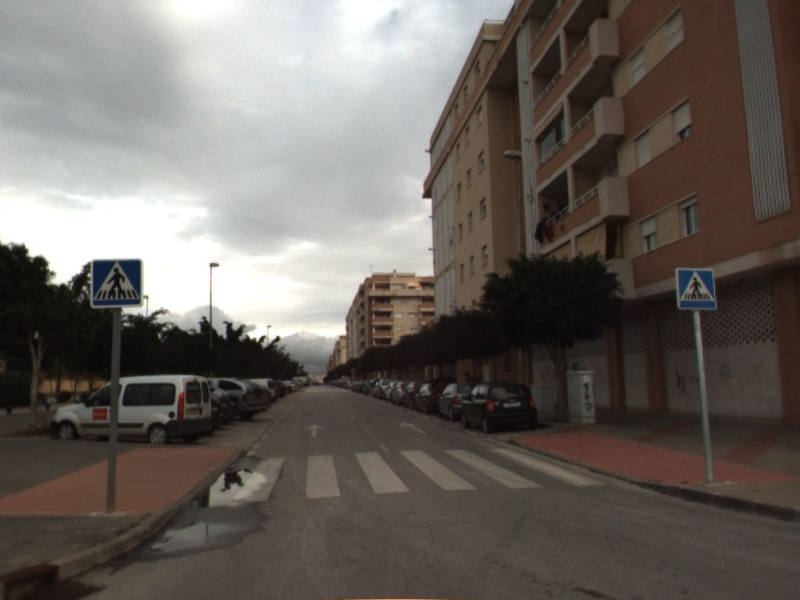STRAIGHT: (398, 420, 430, 436), (302, 421, 326, 439)
